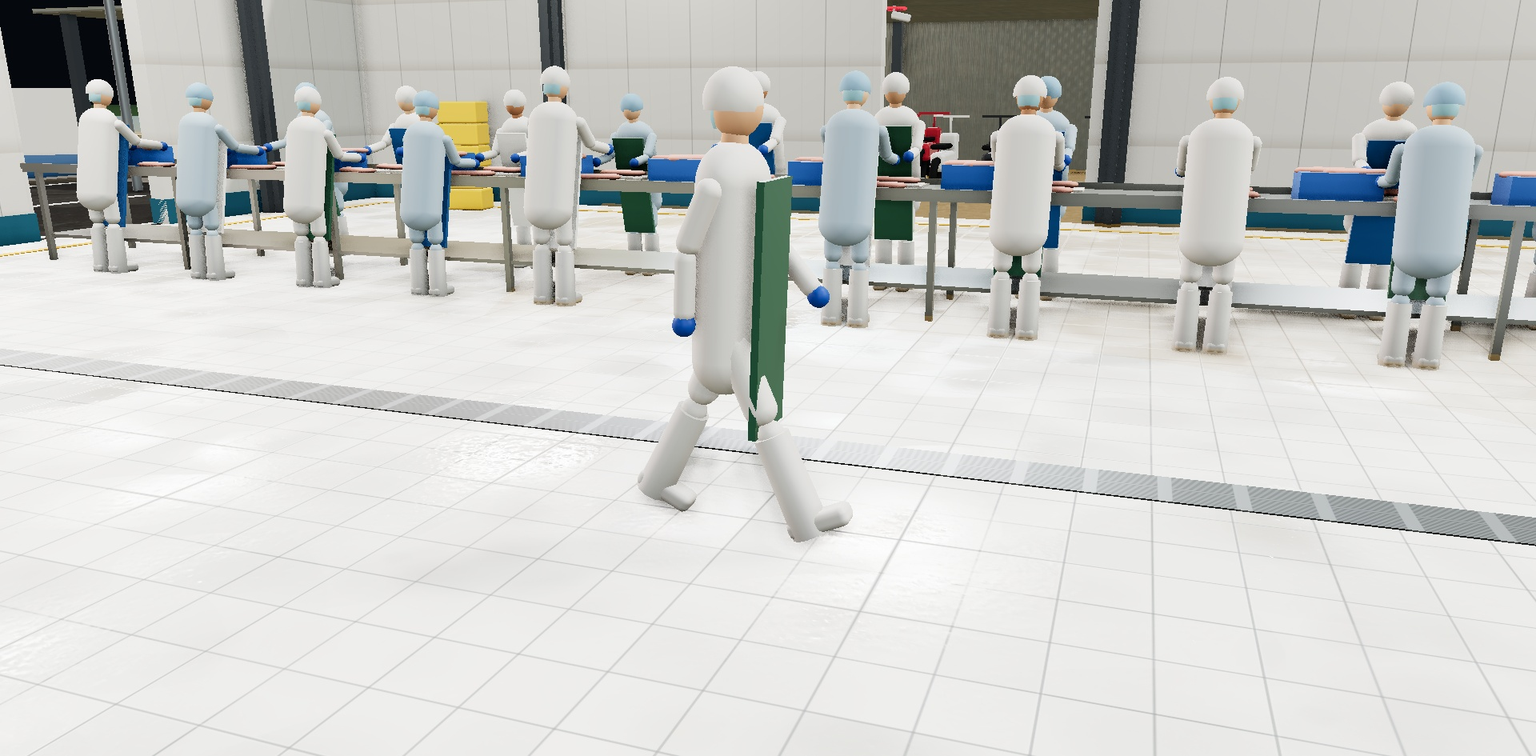apron: (1380, 149, 1471, 302), (746, 175, 793, 443), (1178, 142, 1249, 289), (1345, 139, 1419, 269), (993, 137, 1053, 278), (531, 122, 590, 250), (826, 131, 881, 267), (81, 124, 145, 228), (180, 129, 242, 234), (288, 133, 347, 241), (1015, 130, 1067, 252), (405, 138, 461, 248), (869, 125, 917, 244), (734, 122, 780, 237), (289, 124, 341, 218), (389, 128, 438, 224), (496, 132, 543, 229), (612, 136, 656, 236)
glove: (799, 278, 838, 316), (667, 309, 701, 341), (1440, 175, 1462, 192), (1420, 166, 1440, 182), (1373, 174, 1392, 190), (1236, 164, 1253, 181), (1357, 164, 1375, 180), (1174, 163, 1190, 179), (600, 142, 616, 157), (555, 142, 572, 156), (887, 152, 902, 167), (1053, 158, 1067, 174), (996, 157, 1010, 173), (1004, 152, 1018, 167), (1058, 153, 1072, 168), (835, 151, 849, 166), (709, 143, 724, 157), (250, 145, 267, 157), (123, 140, 141, 151), (901, 150, 915, 164), (756, 143, 770, 157), (430, 157, 446, 169), (353, 152, 369, 164), (359, 145, 375, 157), (218, 145, 235, 156), (154, 141, 171, 152), (852, 149, 865, 163), (467, 158, 482, 170), (318, 152, 334, 163), (260, 142, 276, 153), (627, 157, 641, 169), (393, 146, 408, 157), (292, 143, 307, 154), (589, 157, 603, 168), (473, 152, 487, 163), (508, 153, 522, 164)
hairnet: (691, 64, 774, 113), (1417, 78, 1475, 112), (1205, 73, 1248, 105), (1375, 78, 1422, 107), (533, 62, 578, 91), (835, 67, 876, 97), (1011, 71, 1050, 102), (76, 76, 123, 99), (177, 80, 222, 103), (286, 84, 330, 107), (405, 88, 447, 112), (1030, 72, 1064, 99), (878, 69, 913, 95), (739, 68, 775, 93), (287, 80, 325, 100), (388, 83, 424, 104), (497, 87, 532, 108), (614, 91, 648, 112)
person: (579, 61, 888, 573), (1348, 77, 1514, 378), (1320, 77, 1456, 336), (1158, 72, 1277, 362), (498, 61, 622, 312), (40, 76, 188, 277), (142, 79, 282, 285), (972, 70, 1074, 347), (252, 83, 381, 293), (804, 66, 905, 334), (373, 88, 491, 301), (995, 71, 1084, 314), (252, 79, 368, 265), (707, 66, 799, 295), (352, 83, 463, 271), (848, 68, 936, 303), (467, 86, 565, 277), (586, 91, 675, 285), (1499, 82, 1536, 348)
